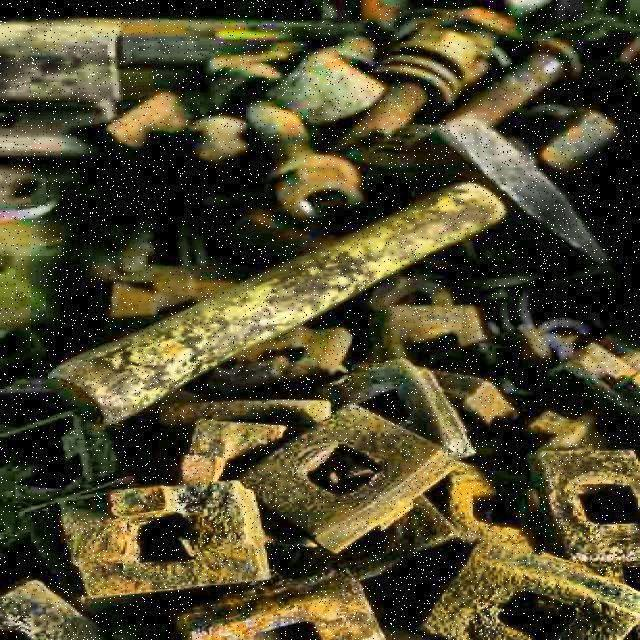hammer: (52, 113, 612, 430)
